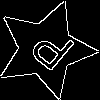P: (21, 24, 78, 81)
